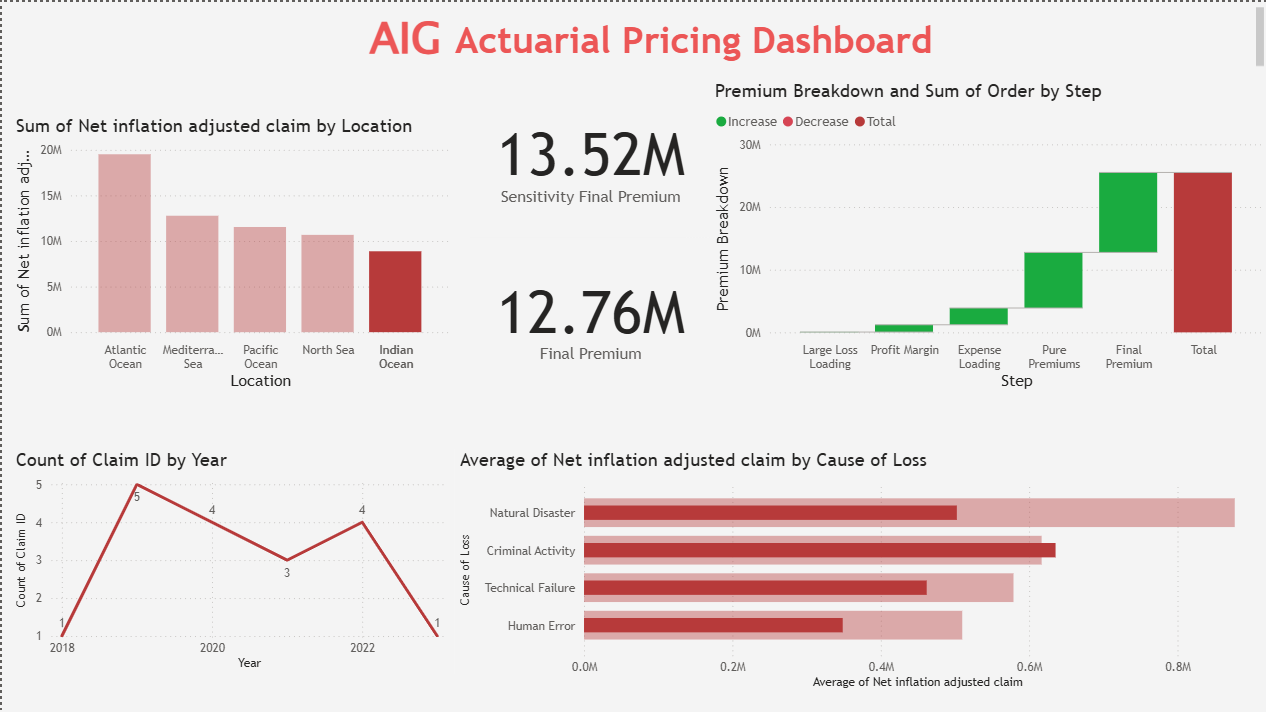

Layout of this report page (visuals, bound fields, positions):
{"tool":"powerbi","page":{"name":"Page 1","canvas":[1280,720],"ordinal":0},"visuals":[{"type":"clusteredColumnChart","fields":{"Category":["Claims Data.Location"],"Y":["Sum(Claims Data.Net inflation adjusted claim)"]},"box":[8.7,114.3,448.4,282.2],"z":0},{"type":"textbox","box":[0,0,1279.4,79.6],"z":1000},{"type":"lineChart","fields":{"Category":["Claims Data.Year"],"Y":["CountNonNull(Claims Data.Claim ID)"]},"box":[8.6,451.7,448.3,227.6],"z":2000},{"type":"clusteredBarChart","fields":{"Category":["Claims Data.Cause of Loss"],"Y":["Avg(Claims Data.Net inflation adjusted claim)"]},"box":[456.9,451.7,822.4,246.6],"z":3000},{"type":"waterfallChart","fields":{"Category":["Table.Step Hierarchy.Step","Table.Step"],"Y":["Claims Data.Premium Breakdown"]},"box":[715.5,79.3,563.8,317.2],"z":4000},{"type":"card","fields":{"Values":["Claims Data.Sensitivity Final Premium"]},"box":[472.4,79.3,243.1,158.6],"z":4001},{"type":"card","fields":{"Values":["Claims Data.Final Premium"]},"box":[472,238,243,158],"z":4002}]}

Visuals, with their boxes in screenshot pixels (x1, y1, x2, y2), scaled from the page's 1280x720 canvas onto the 1266x712 screenshot:
clusteredColumnChart - Claims Data.Location x Sum(Claims Data.Net inflation adjusted claim): {"x1": 9, "y1": 113, "x2": 452, "y2": 392}
textbox: {"x1": 0, "y1": 0, "x2": 1265, "y2": 79}
lineChart - Claims Data.Year x CountNonNull(Claims Data.Claim ID): {"x1": 9, "y1": 447, "x2": 452, "y2": 672}
clusteredBarChart - Claims Data.Cause of Loss x Avg(Claims Data.Net inflation adjusted claim): {"x1": 452, "y1": 447, "x2": 1265, "y2": 691}
waterfallChart - Table.Step Hierarchy.Step x Table.Step: {"x1": 708, "y1": 78, "x2": 1265, "y2": 392}
card - Claims Data.Sensitivity Final Premium: {"x1": 467, "y1": 78, "x2": 708, "y2": 235}
card - Claims Data.Final Premium: {"x1": 467, "y1": 235, "x2": 707, "y2": 392}
